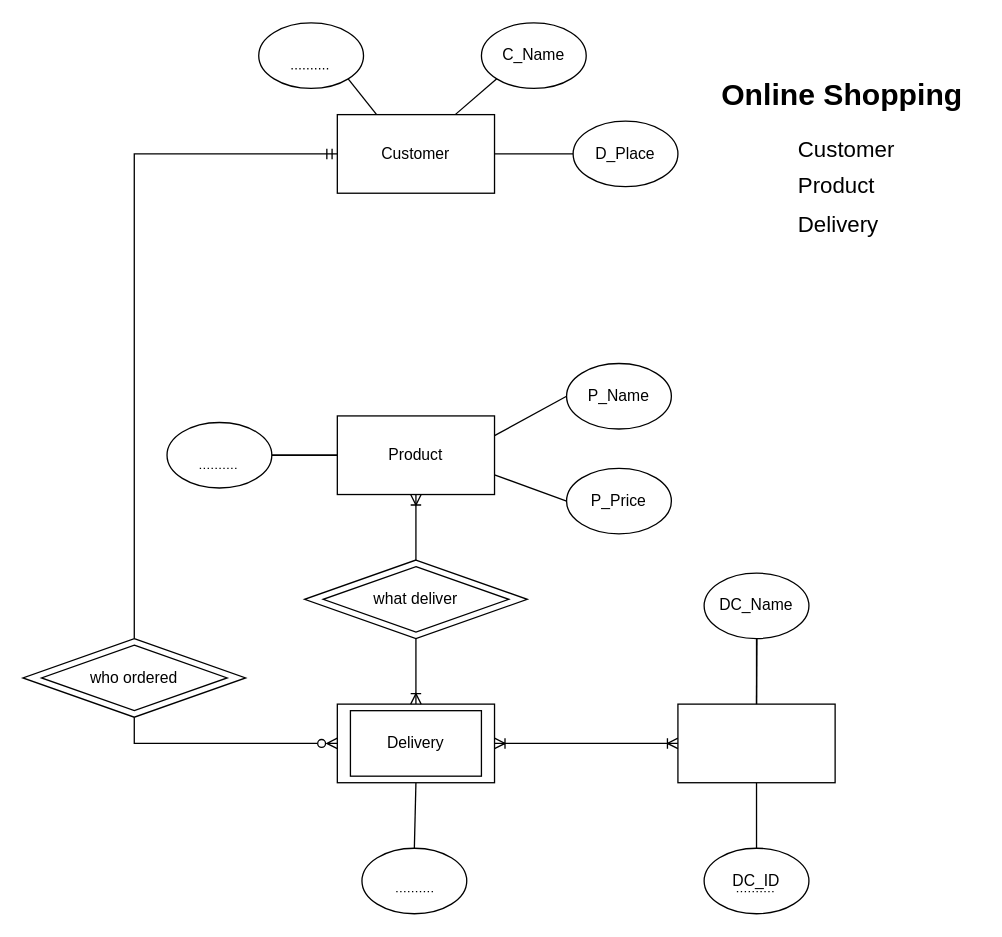
The diagram is 1002 pixels wide and 937 high, and some of its shapes have lost their labels. Here are the shapes that lost their labels. From the top down, the centre of each, then its label:
pixel 310 55: С_ID
pixel 219 454: P_ID
pixel 756 743: Delivery company
pixel 414 880: D_ID
